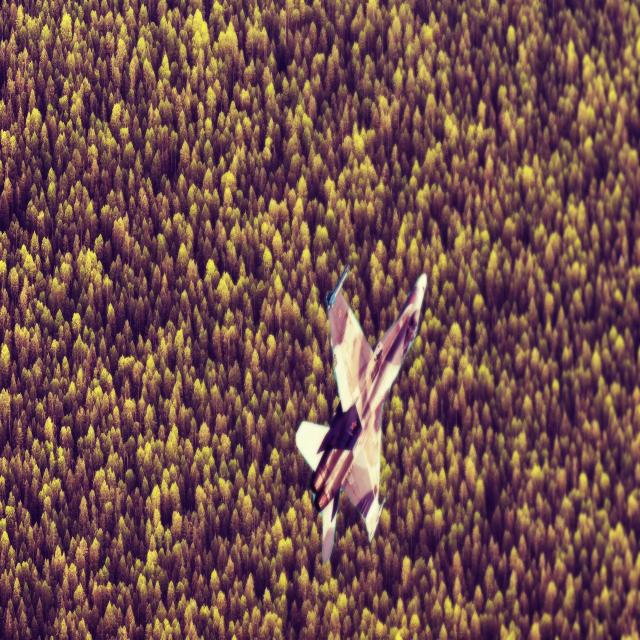airplane: (294, 263, 428, 565)
